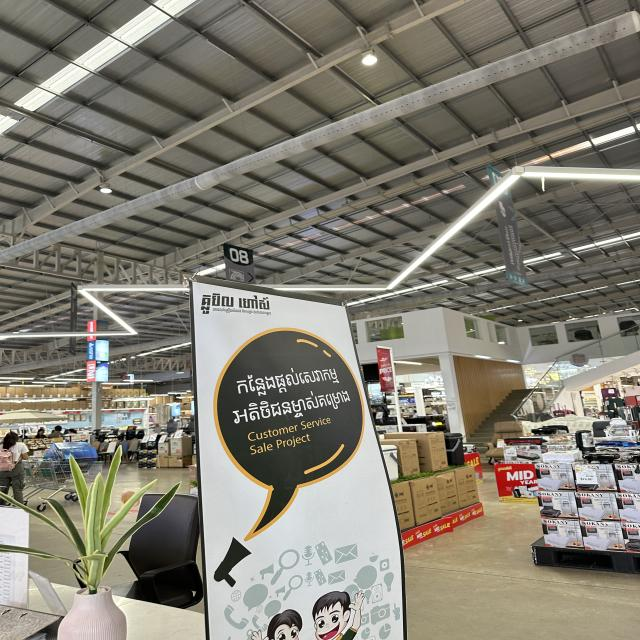1: (195, 289, 274, 314)
Yolov11kh: (226, 387, 354, 429), (227, 363, 345, 399)
